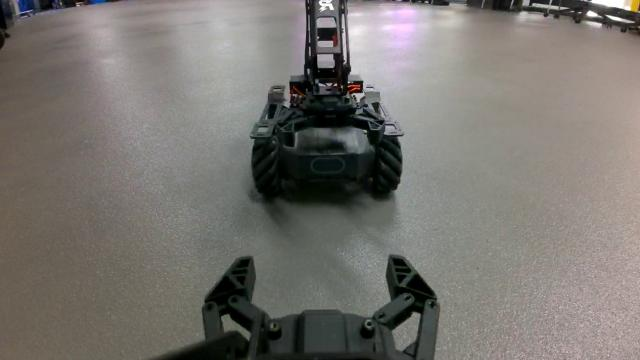robot: (250, 0, 408, 199)
